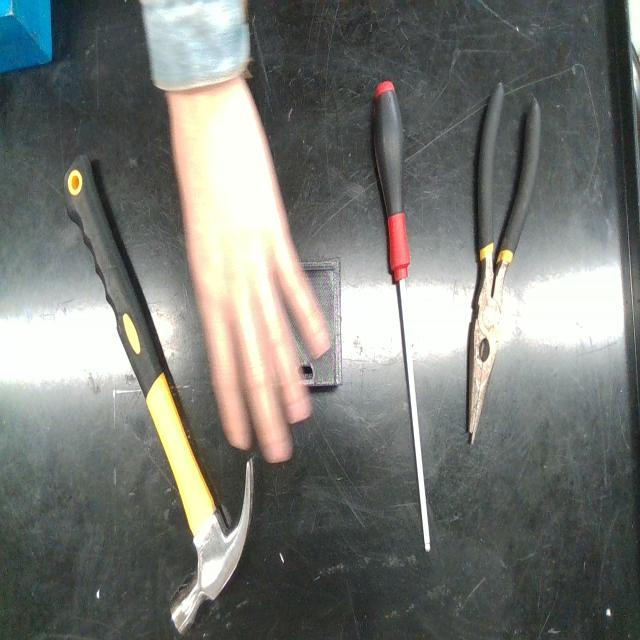Screwdriver: (374, 80, 430, 551)
